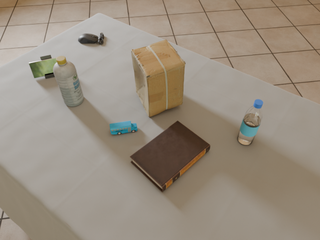book: (130, 121, 210, 192)
bottle: (53, 56, 84, 106), (237, 99, 263, 145)
box: (131, 39, 185, 117)
mouse: (78, 33, 104, 44)
phone: (29, 57, 57, 78)
toy_car: (110, 121, 137, 134)
